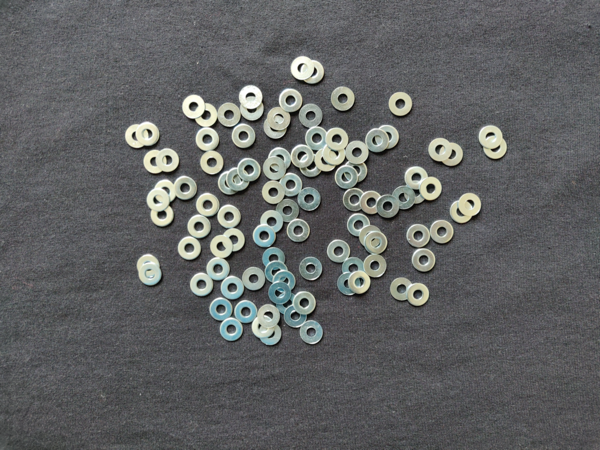circle: (389, 90, 415, 118), (289, 54, 315, 81), (149, 202, 175, 229), (135, 120, 161, 147), (125, 121, 150, 149), (430, 220, 456, 246), (390, 276, 416, 302), (364, 127, 389, 154), (300, 320, 325, 347), (218, 170, 243, 197), (143, 150, 170, 175), (376, 122, 400, 150), (481, 135, 507, 160), (323, 142, 348, 168), (188, 274, 214, 299), (259, 180, 284, 206), (278, 87, 303, 113), (300, 60, 326, 85), (262, 115, 287, 141), (238, 83, 264, 108), (217, 101, 242, 127), (199, 151, 225, 176), (237, 157, 262, 183), (410, 250, 437, 274), (335, 164, 359, 191), (332, 86, 356, 113), (187, 215, 214, 239), (300, 102, 323, 130), (405, 166, 430, 191), (404, 180, 429, 205), (345, 141, 370, 166), (406, 283, 431, 308), (325, 126, 350, 151), (231, 124, 256, 149), (239, 97, 264, 122), (152, 178, 177, 203), (439, 143, 465, 167), (283, 305, 309, 329), (253, 224, 277, 250), (260, 208, 284, 234), (279, 172, 303, 198), (194, 193, 220, 217), (341, 257, 368, 280), (338, 274, 362, 299), (299, 256, 323, 281), (292, 291, 317, 315), (272, 270, 297, 294), (242, 266, 266, 291), (222, 229, 246, 254), (287, 219, 311, 244), (297, 187, 322, 211), (277, 199, 302, 223), (290, 145, 315, 169), (300, 153, 324, 178), (194, 104, 219, 128), (158, 148, 180, 175), (407, 224, 431, 248), (348, 271, 372, 295), (327, 240, 351, 264), (256, 304, 280, 328), (264, 157, 288, 181), (268, 146, 292, 170), (181, 95, 205, 119), (195, 128, 219, 152), (138, 264, 162, 288), (359, 224, 382, 249), (251, 316, 276, 339), (219, 318, 244, 341), (221, 276, 244, 301), (210, 235, 233, 260), (479, 127, 505, 149), (344, 160, 370, 182), (264, 262, 290, 284), (257, 325, 283, 347), (343, 188, 366, 212), (363, 255, 387, 278), (364, 232, 388, 255), (277, 293, 300, 317), (235, 300, 258, 324), (210, 298, 233, 322), (268, 107, 291, 131), (227, 168, 250, 192), (178, 236, 201, 260), (217, 205, 241, 228), (174, 176, 197, 200), (146, 188, 169, 212), (428, 139, 453, 161), (267, 283, 293, 304), (315, 150, 338, 173), (207, 258, 230, 281), (420, 178, 442, 202), (378, 195, 400, 219), (347, 214, 369, 238), (136, 254, 160, 276), (305, 128, 330, 149), (459, 195, 482, 217), (393, 188, 416, 210), (450, 202, 474, 223), (262, 248, 286, 269), (362, 191, 381, 215)
